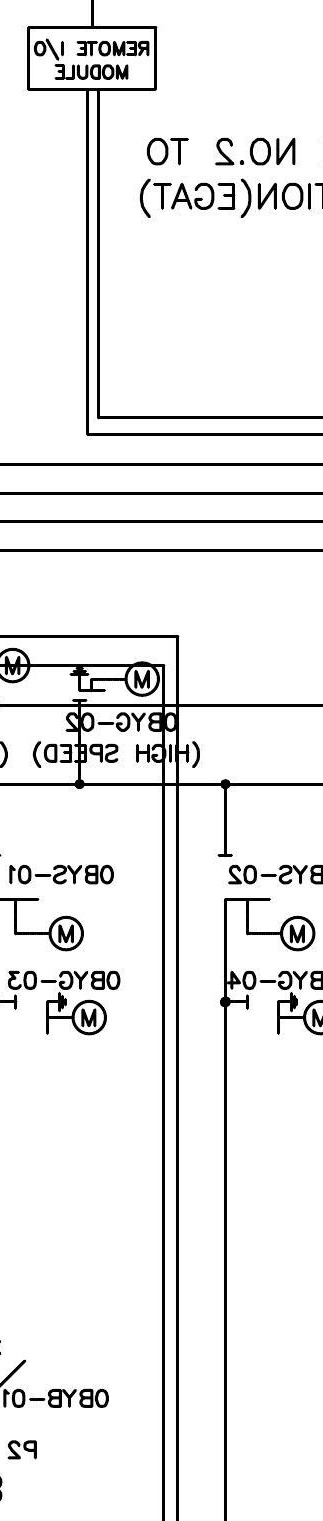115_1way_ds_w_motor: (217, 854, 316, 952)
115_gs_w_motor: (14, 991, 108, 1036), (68, 660, 161, 702)
remote_io_module: (27, 26, 158, 91)
